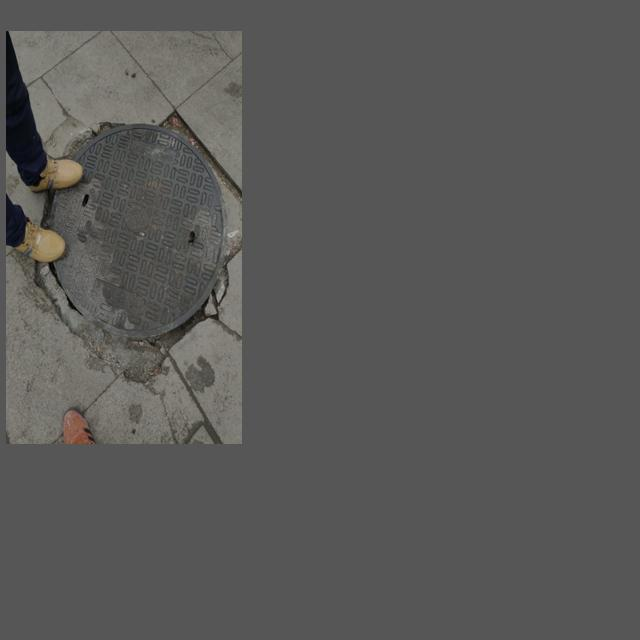uncovered: (49, 123, 226, 339)
